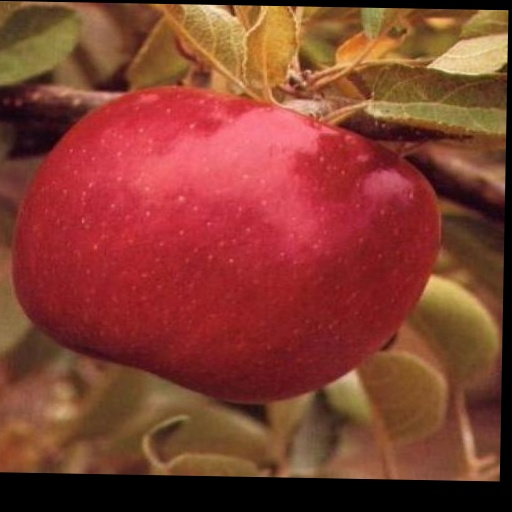fruit: (14, 88, 437, 402)
